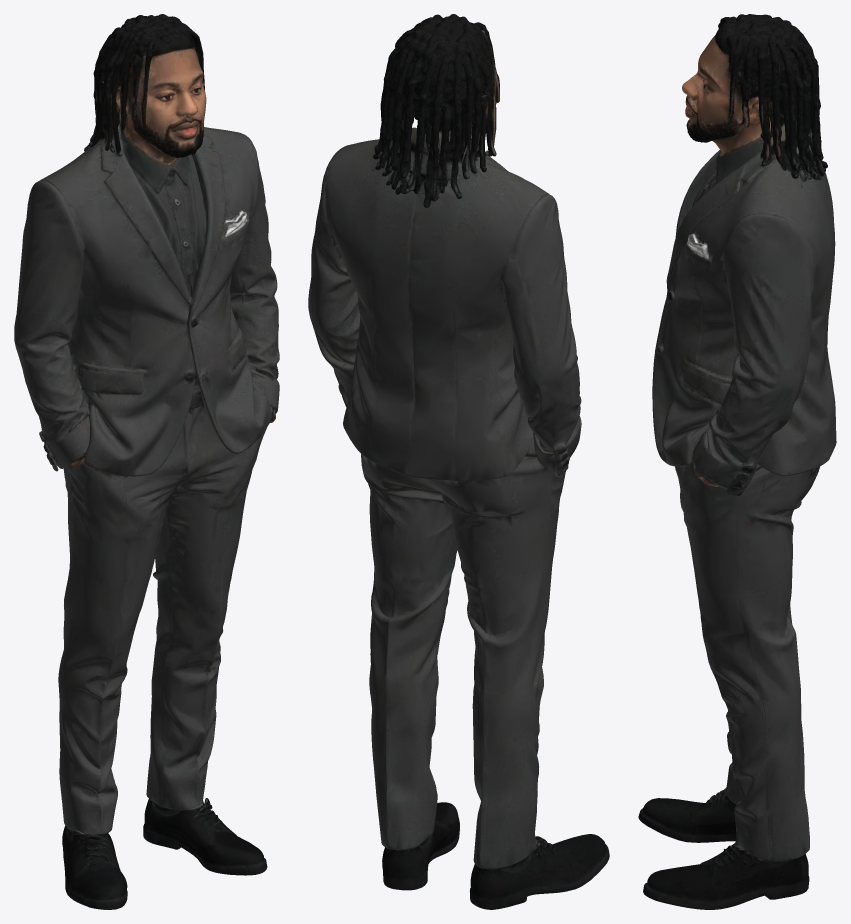
File: co_marquis.glb
The picture shows the model from 3 angles, left to right: view 1: azimuth 30°, elevation 25°; view 2: azimuth 150°, elevation 25°; view 3: azimuth 270°, elevation 25°; orthographic projection. The views are drawn at different scales.
Visible parts, largest first — view 1: mesh_node; view 2: mesh_node; view 3: mesh_node.
Part boxes in pixels (x1=…): mesh_node: x1=14, y1=14, x2=279, y2=909; mesh_node: x1=308, y1=14, x2=609, y2=909; mesh_node: x1=638, y1=14, x2=836, y2=909.
Size of the model in its own units: 0.6006 by 1.9 by 0.3984.
1 material, 1 textured.
